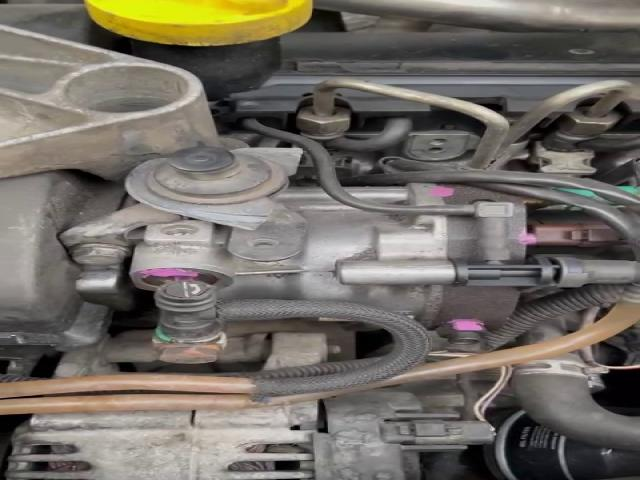alternator: (8, 402, 318, 480)
high_pressure_pump: (128, 184, 638, 344)
